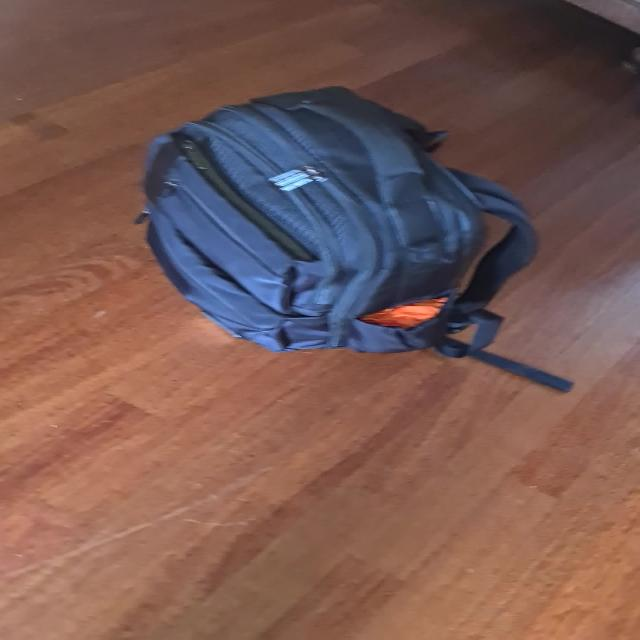backpack: (126, 75, 550, 362)
